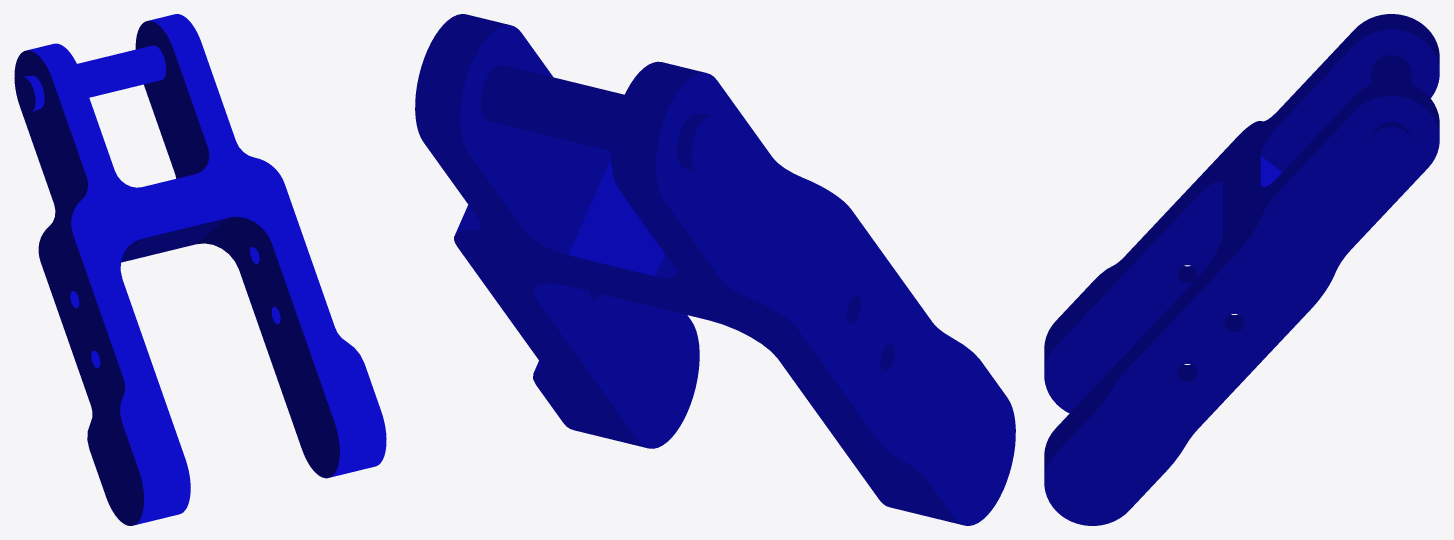
The model's file is robotiq_arg2f_85_inner_knuckle.dae.
3 views of the same model, side by side, from view 1: azimuth 30°, elevation 25°; view 2: azimuth 150°, elevation 25°; view 3: azimuth 270°, elevation 25° (orthographic). The views are drawn at different scales.
Parts seen in each view (by area): view 1: node0; view 2: node0; view 3: node0.
Part boxes in pixels (<box>): node0: <box>14,14,386,525</box>; node0: <box>415,14,1015,525</box>; node0: <box>1044,14,1439,525</box>.
Bounding box in the file's own units: 39 × 49.1 × 55.44.
